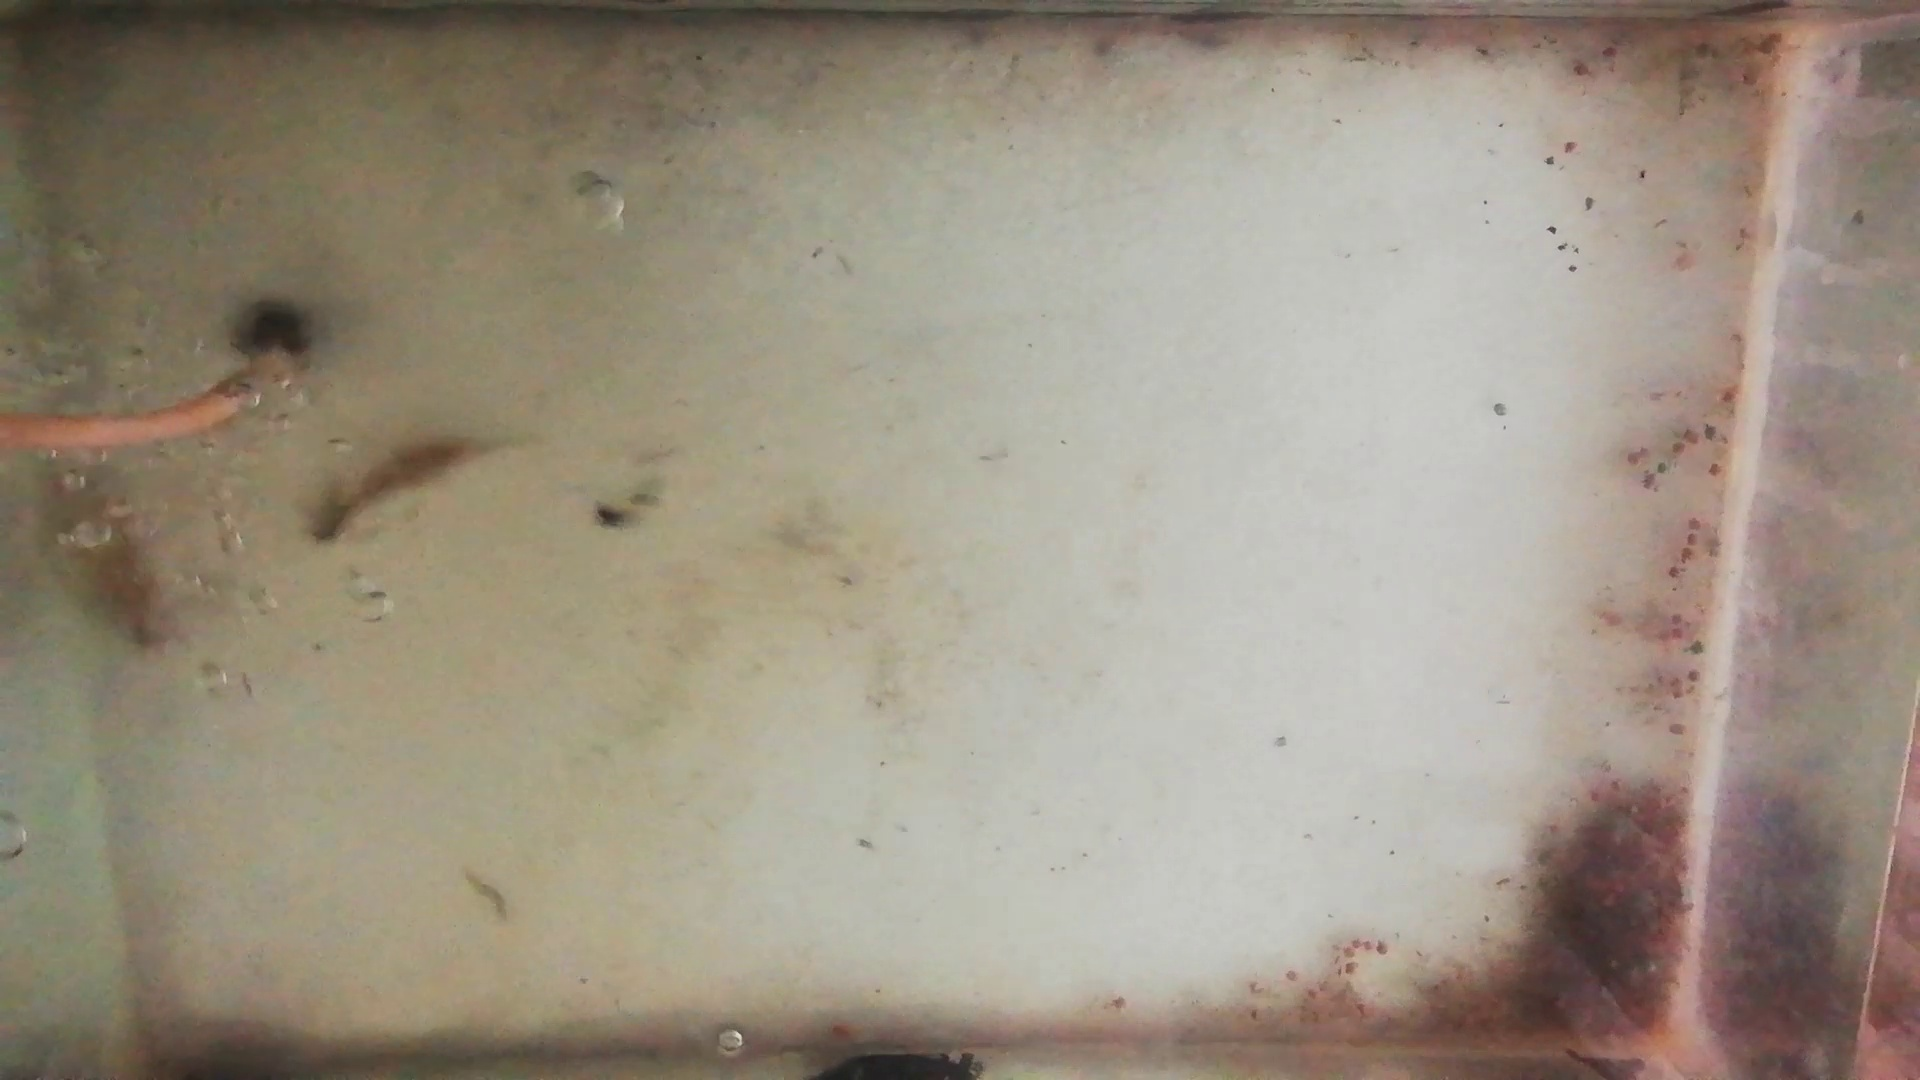fish: (44, 468, 169, 651), (307, 438, 487, 547)
